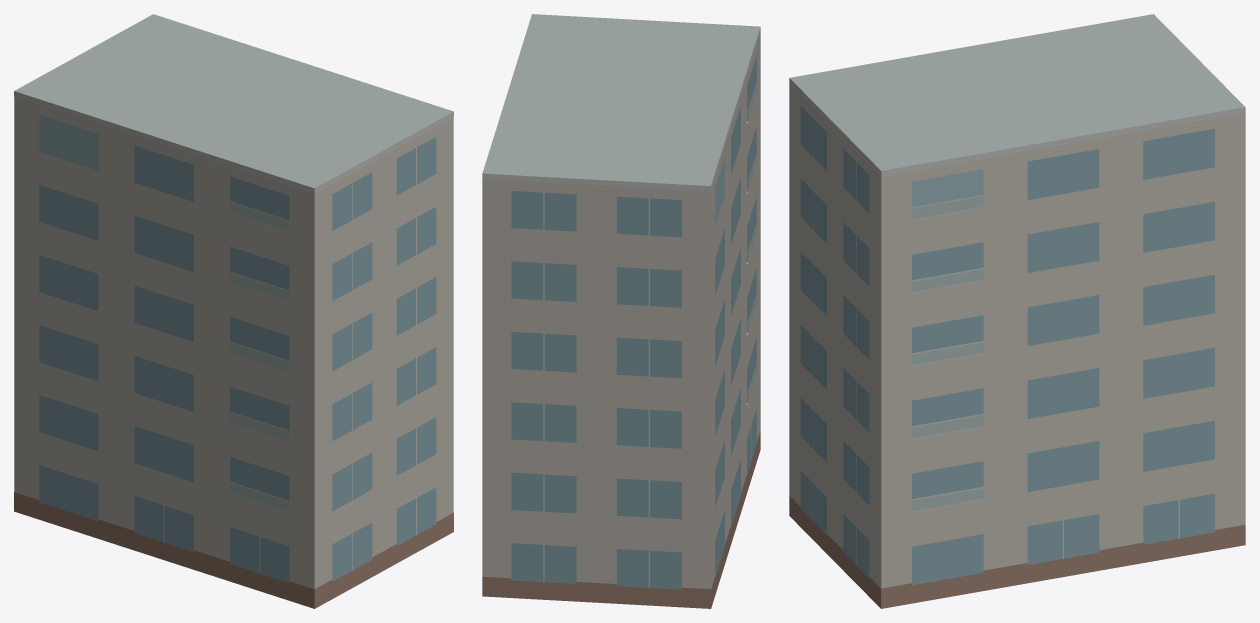
The model's file is survey-upis-32984163.glb.
3 renders of one model, left to right at view 1: azimuth 30°, elevation 25°; view 2: azimuth 150°, elevation 25°; view 3: azimuth 270°, elevation 25°, orthographic. The views are drawn at different scales.
Parts seen in each view (by area): view 1: survey-upis-32984163.tmp; view 2: survey-upis-32984163.tmp; view 3: survey-upis-32984163.tmp.
Boxes of the visible parts, <box> form: survey-upis-32984163.tmp: <box>14,14,453,608</box>; survey-upis-32984163.tmp: <box>482,14,760,608</box>; survey-upis-32984163.tmp: <box>789,14,1245,608</box>.
Size of the model in its own units: 14.08 by 18.3 by 17.29.
